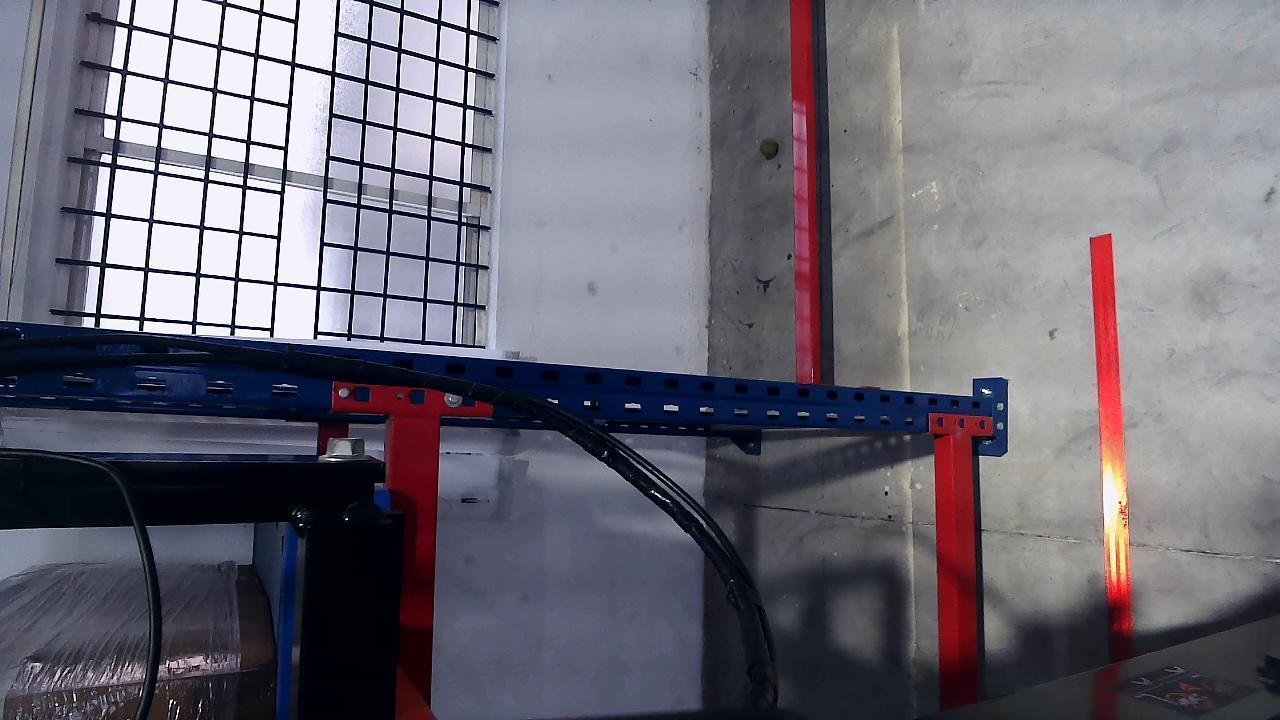red_line: (1088, 233, 1133, 614)
